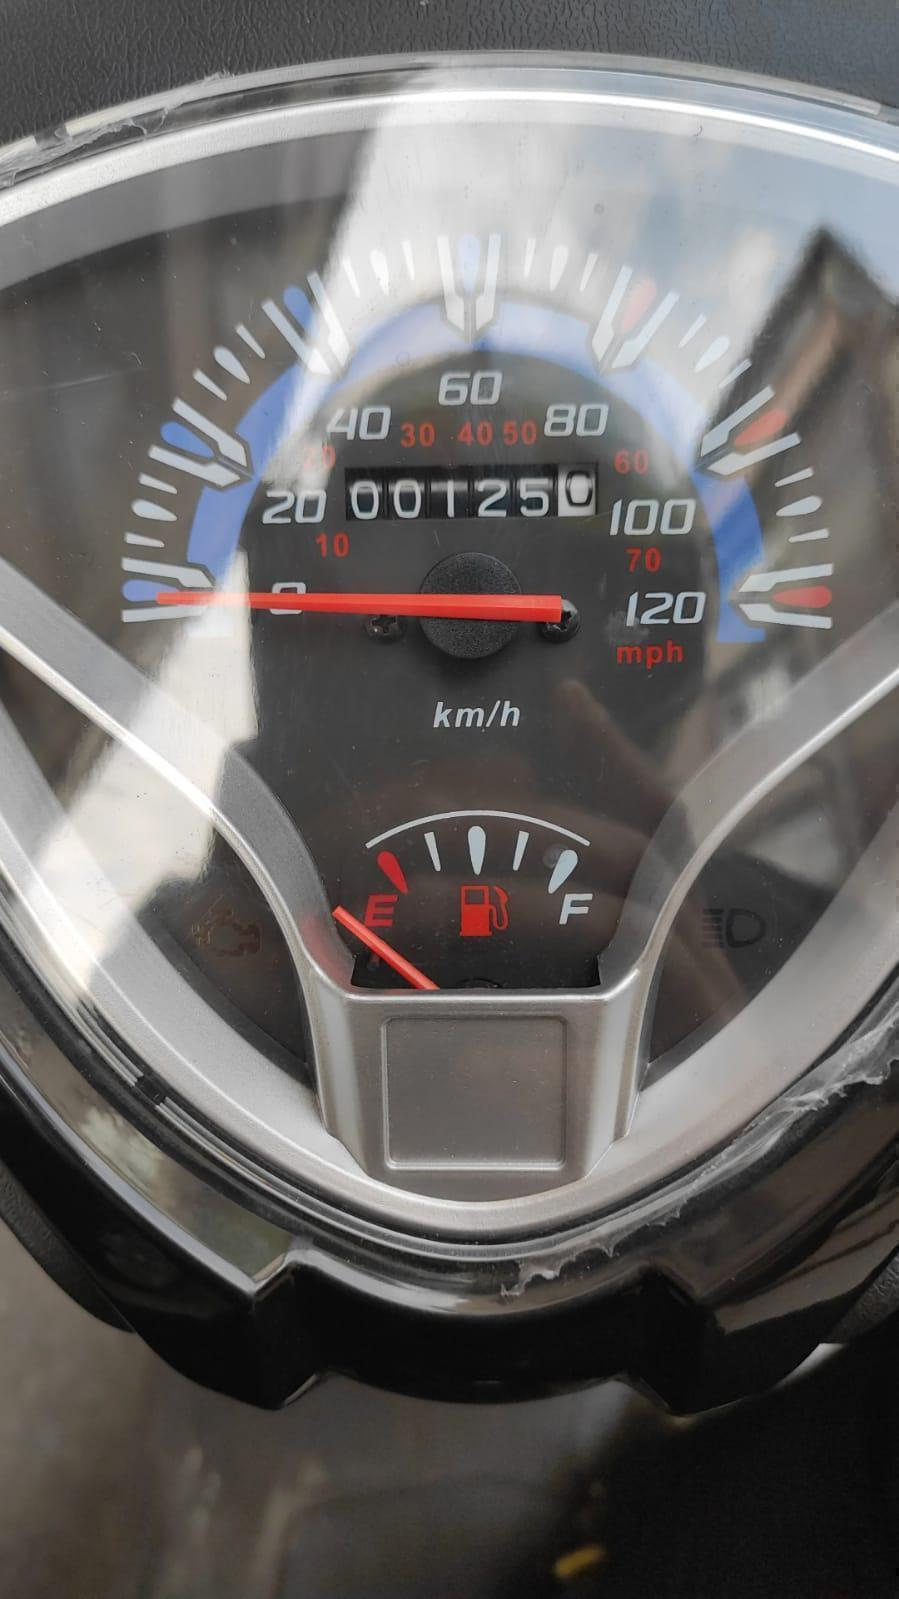0: (350, 478, 383, 524), (389, 476, 423, 519), (563, 468, 595, 513)
1: (439, 476, 462, 519)
2: (474, 476, 510, 519)
5: (515, 473, 549, 518)
odometer: (337, 455, 607, 537)
